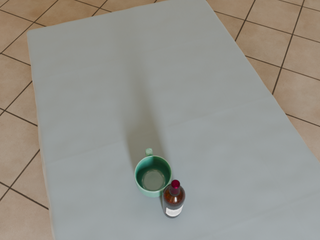bottle: (163, 180, 185, 218)
cup: (135, 148, 172, 197)
